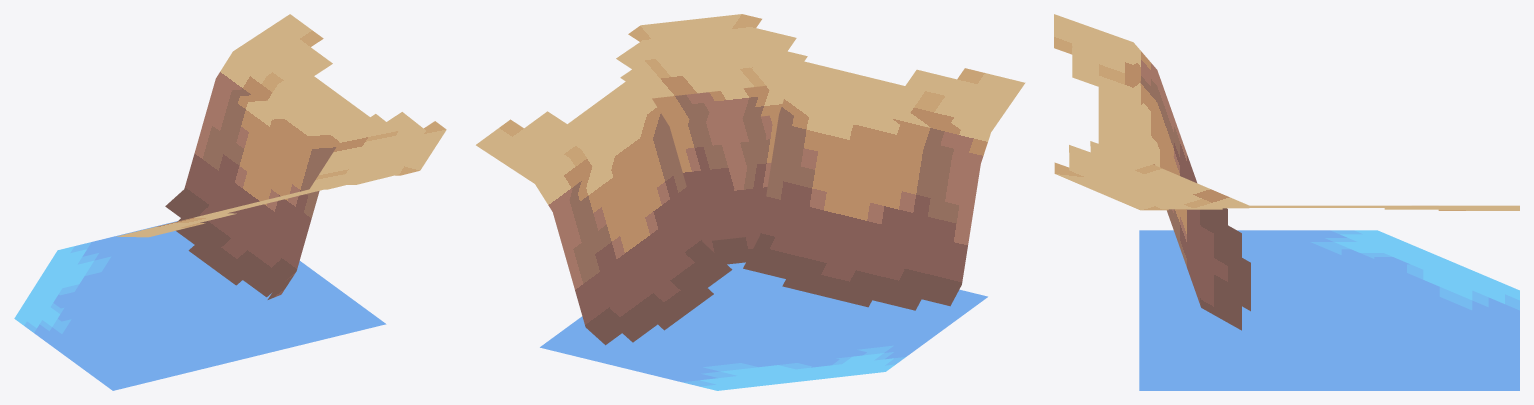
The model's file is berge-mare-rom-00.glb.
3 renders of one model, left to right at view 1: azimuth 30°, elevation 25°; view 2: azimuth 150°, elevation 25°; view 3: azimuth 270°, elevation 25°, orthographic. The views are drawn at different scales.
Bounding box in the file's own units: 1.22 × 0.627 × 1.22.
Materials: 2 (2 with a texture image).
